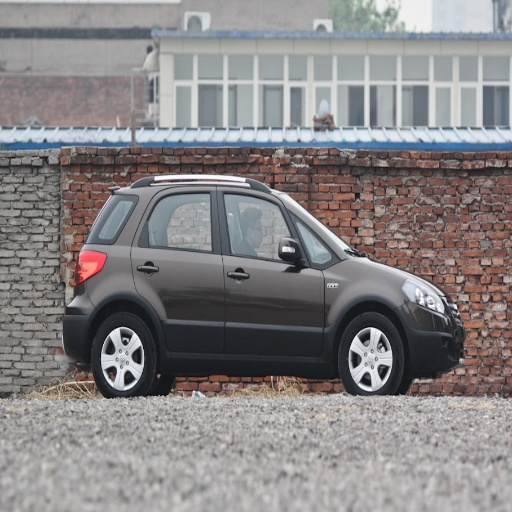back_right_door: (133, 183, 225, 354)
front_right_door: (221, 183, 334, 355)
